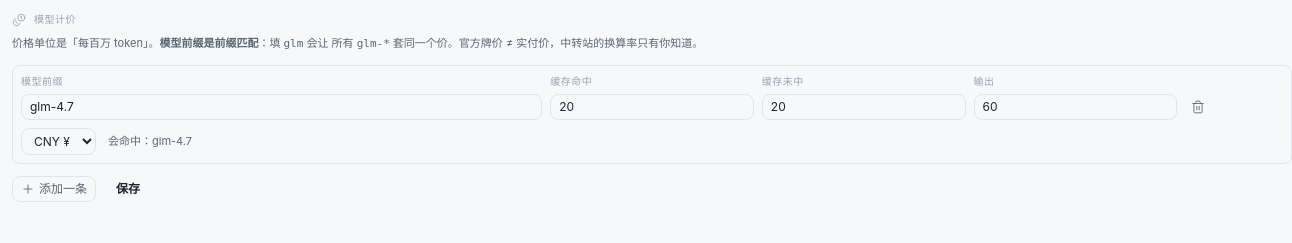
Test: SettingsPricing › 后端回 ok:false 时把它的话显示出来，不吞掉
Expected: the 1st field showing "glm-4.7" is shown, [21,94,542,120]
Click the button with test id "pricing-save": (128, 188) [104,176,152,200]
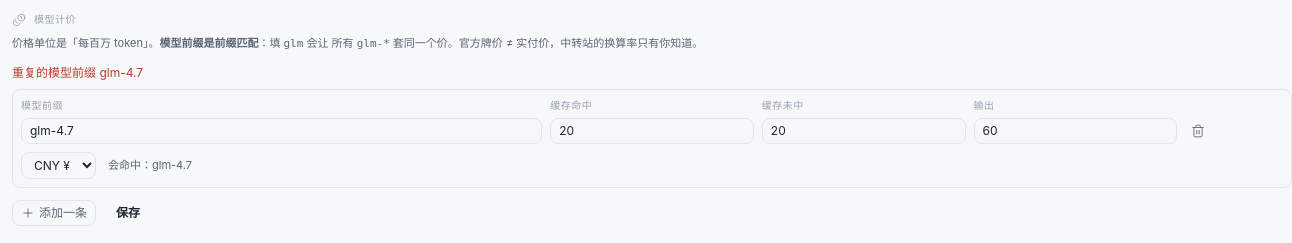
Result: the text with test id "pricing-error" shows "重复的模型前缀" at [12,64,143,80]
